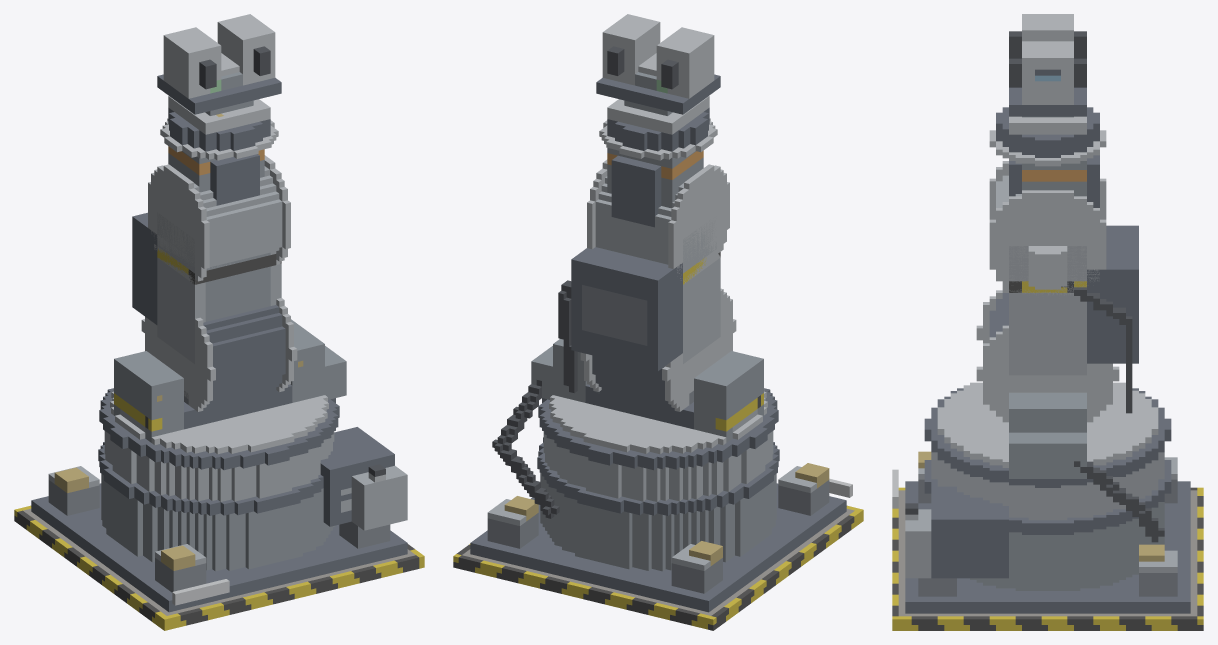
The model's file is robot_arm.glb.
3 renders of one model, left to right at view 1: azimuth 30°, elevation 25°; view 2: azimuth 150°, elevation 25°; view 3: azimuth 270°, elevation 25°, orthographic. The views are drawn at different scales.
Visible parts, largest first — view 1: base, turret, shoulder, elbow, gripper, wrist; view 2: base, turret, shoulder, elbow, gripper, wrist; view 3: base, turret, shoulder, elbow, gripper, wrist.
Part boxes in pixels (x1,y1,x2,y2): base: [14, 427, 424, 630]; turret: [99, 319, 346, 501]; shoulder: [132, 212, 297, 411]; elbow: [148, 146, 290, 284]; gripper: [157, 14, 281, 114]; wrist: [160, 96, 278, 160]; base: [453, 437, 863, 630]; turret: [492, 339, 778, 518]; shoulder: [558, 220, 736, 411]; elbow: [587, 148, 729, 283]; gripper: [596, 14, 720, 114]; wrist: [599, 96, 717, 160]; base: [892, 451, 1203, 630]; turret: [924, 382, 1171, 542]; shoulder: [976, 225, 1138, 422]; elbow: [989, 155, 1106, 295]; gripper: [1009, 14, 1086, 116]; wrist: [989, 107, 1106, 166].
Bounding box in the file's own units: 1.5 × 2.81 × 1.5.
